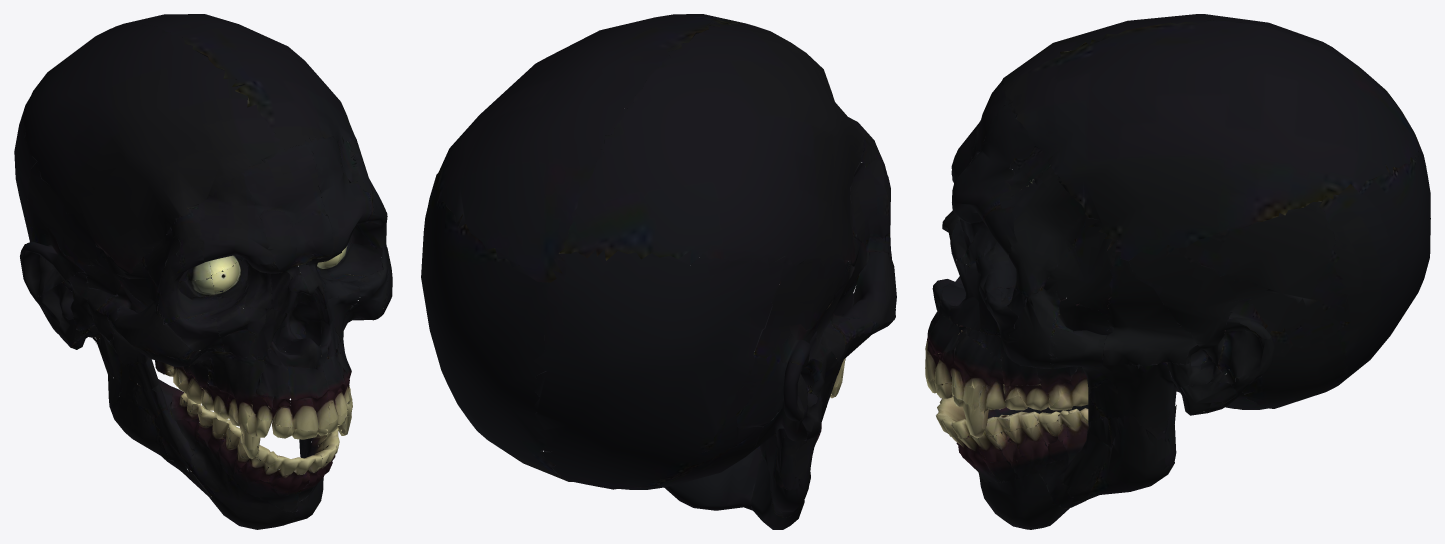
Rendered from smiler.glb.
3 renders of one model, left to right at view 1: azimuth 30°, elevation 25°; view 2: azimuth 150°, elevation 25°; view 3: azimuth 270°, elevation 25°, orthographic. The views are drawn at different scales.
Visible parts, largest first — view 1: Mesh_0; view 2: Mesh_0; view 3: Mesh_0.
Boxes of the visible parts, x1,y1,x2,y2 form: Mesh_0: (14, 14, 392, 529); Mesh_0: (421, 14, 896, 529); Mesh_0: (925, 14, 1430, 529).
Bounding box in the file's own units: 1.35 × 1.9 × 1.8.
1 material, 1 textured.
